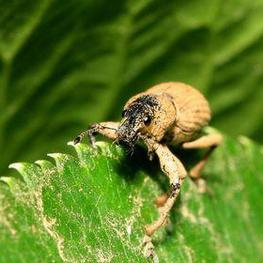weevils: (53, 47, 253, 260)
